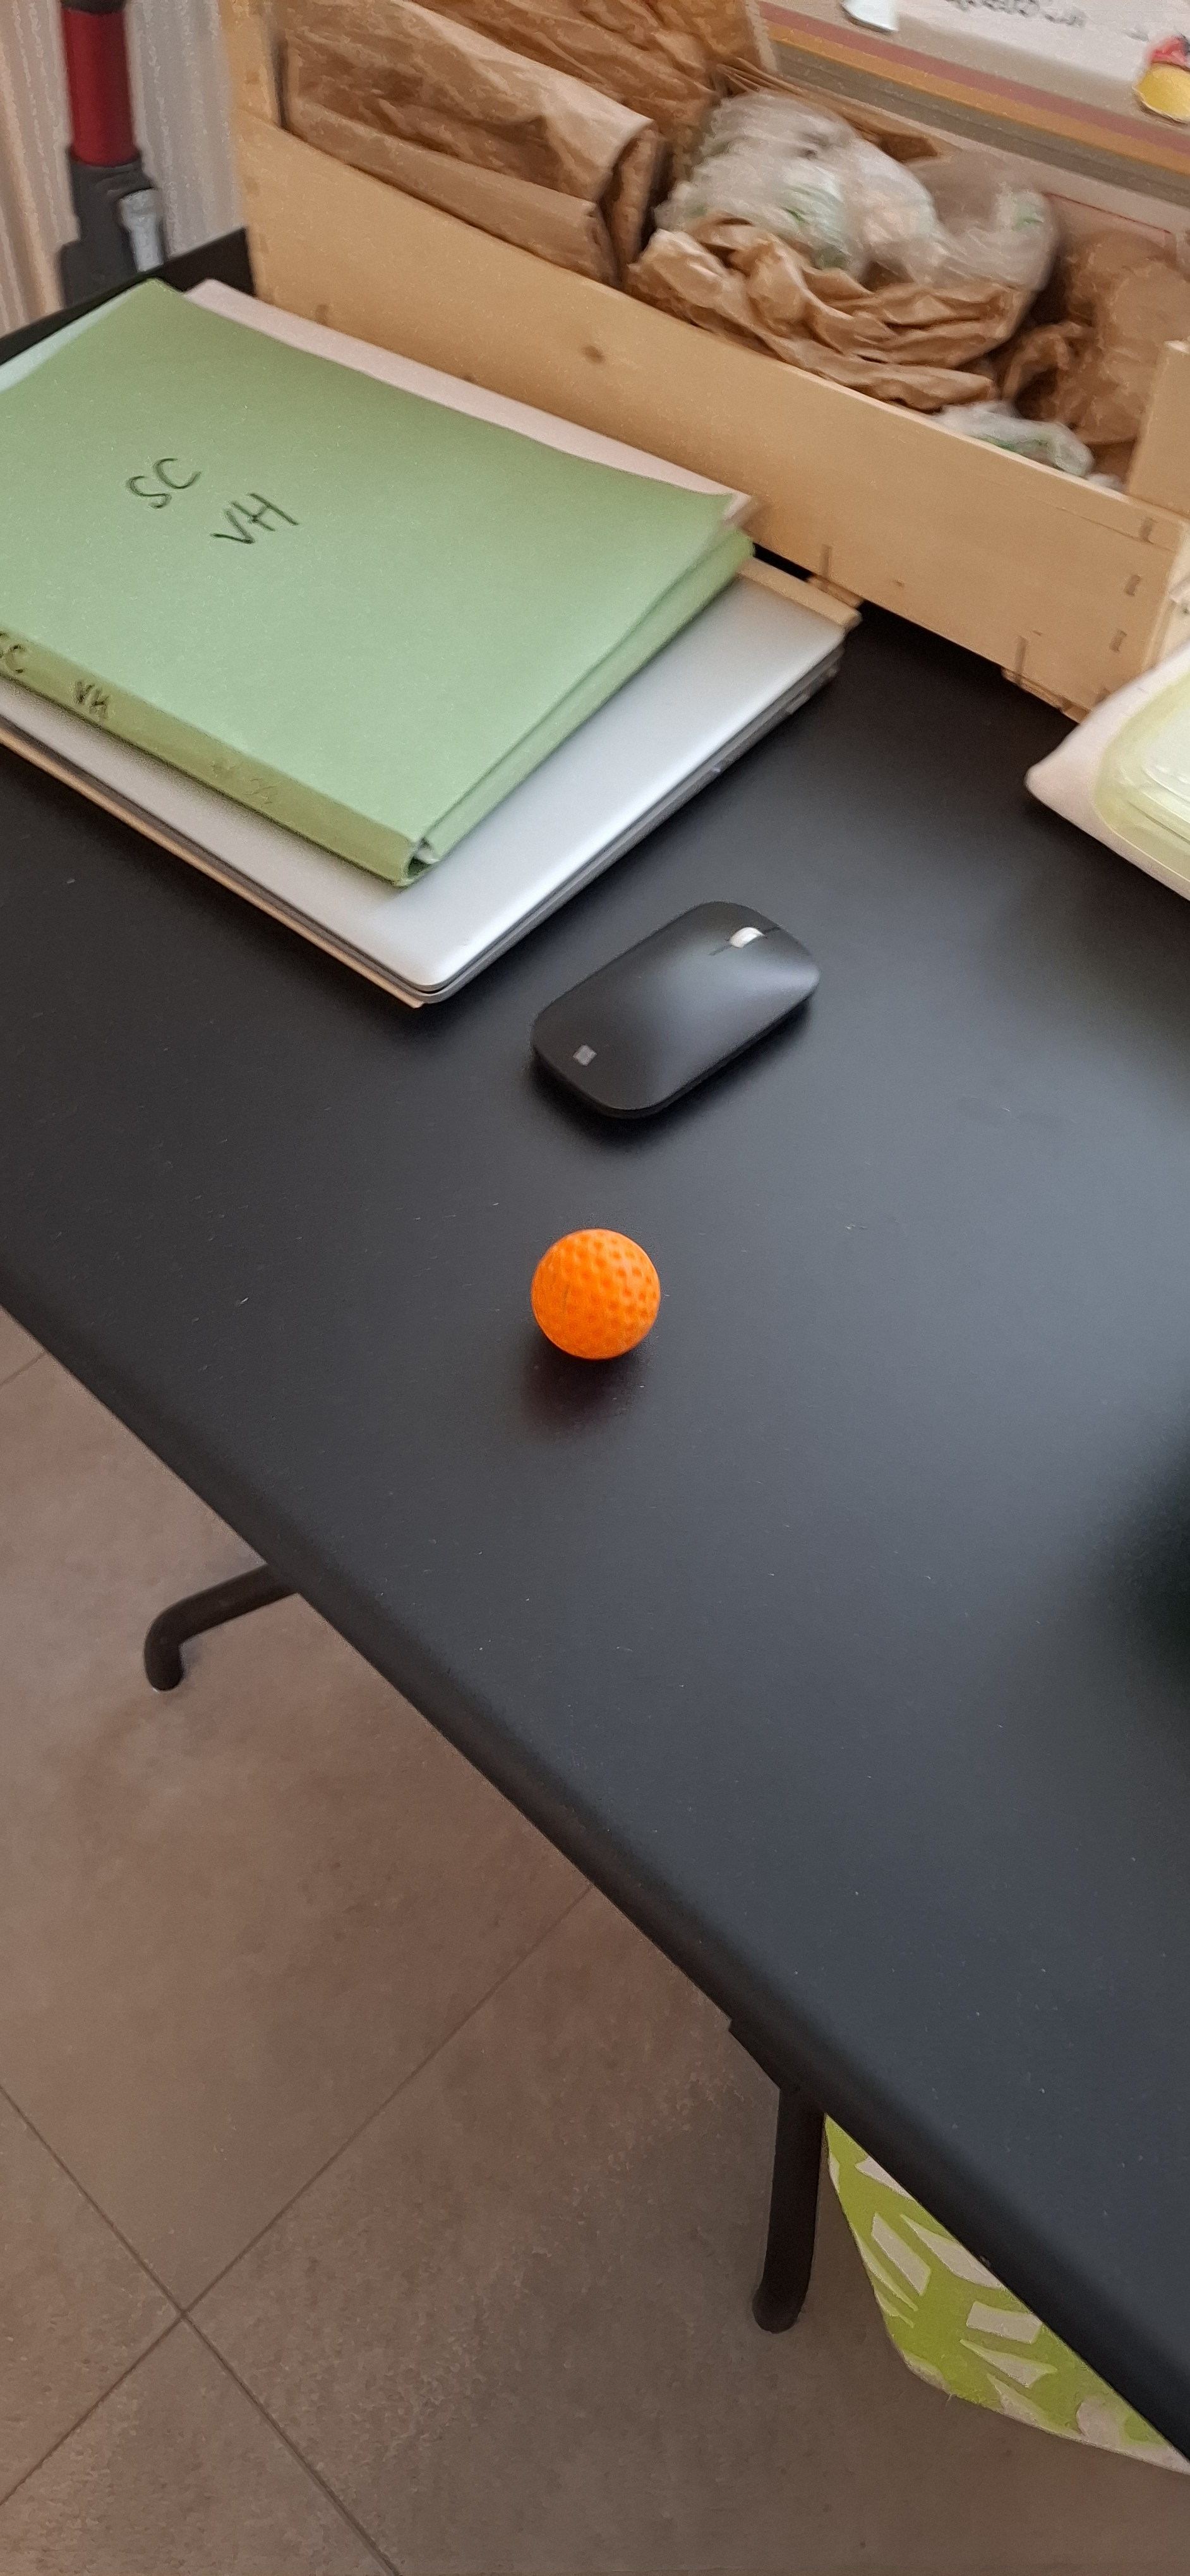ball: (565, 1147, 628, 1434)
